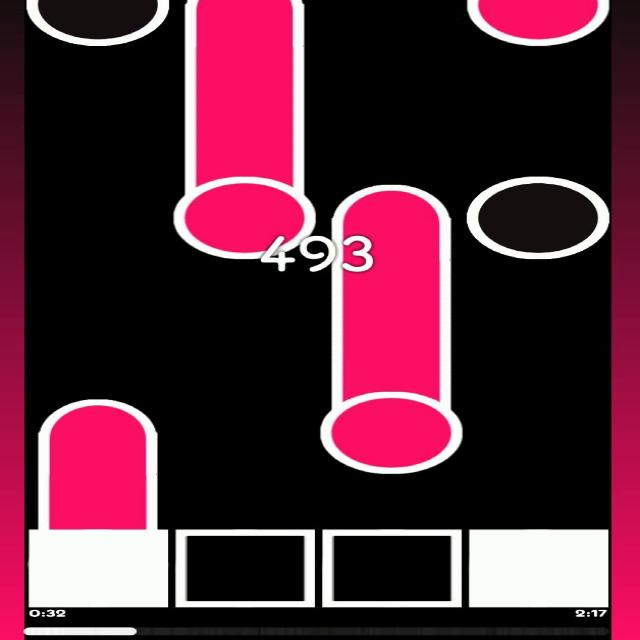end_hold: (31, 384, 163, 447), (323, 167, 459, 227)
note: (462, 179, 610, 260), (24, 0, 174, 47)
start_hold: (170, 147, 314, 258), (325, 374, 463, 474), (466, 0, 610, 45)
